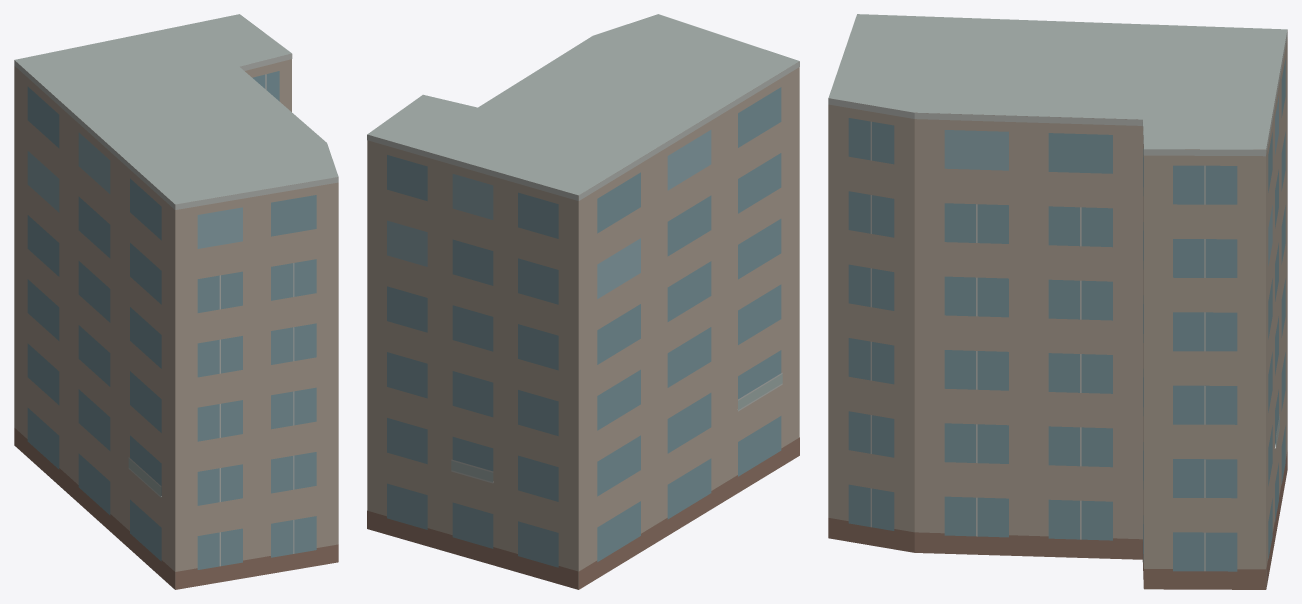
The model's file is survey-upis-32878254.glb.
3 views of the same model, side by side, from view 1: azimuth 30°, elevation 25°; view 2: azimuth 150°, elevation 25°; view 3: azimuth 270°, elevation 25° (orthographic). The views are drawn at different scales.
Parts seen in each view (by area): view 1: survey-upis-32878254.tmp; view 2: survey-upis-32878254.tmp; view 3: survey-upis-32878254.tmp.
Part boxes in pixels (x1,y1,x2,y2): survey-upis-32878254.tmp: (14, 14, 338, 589); survey-upis-32878254.tmp: (367, 14, 799, 589); survey-upis-32878254.tmp: (828, 14, 1287, 589).
Bounding box in the file's own units: 11.12 × 16.8 × 15.9.
